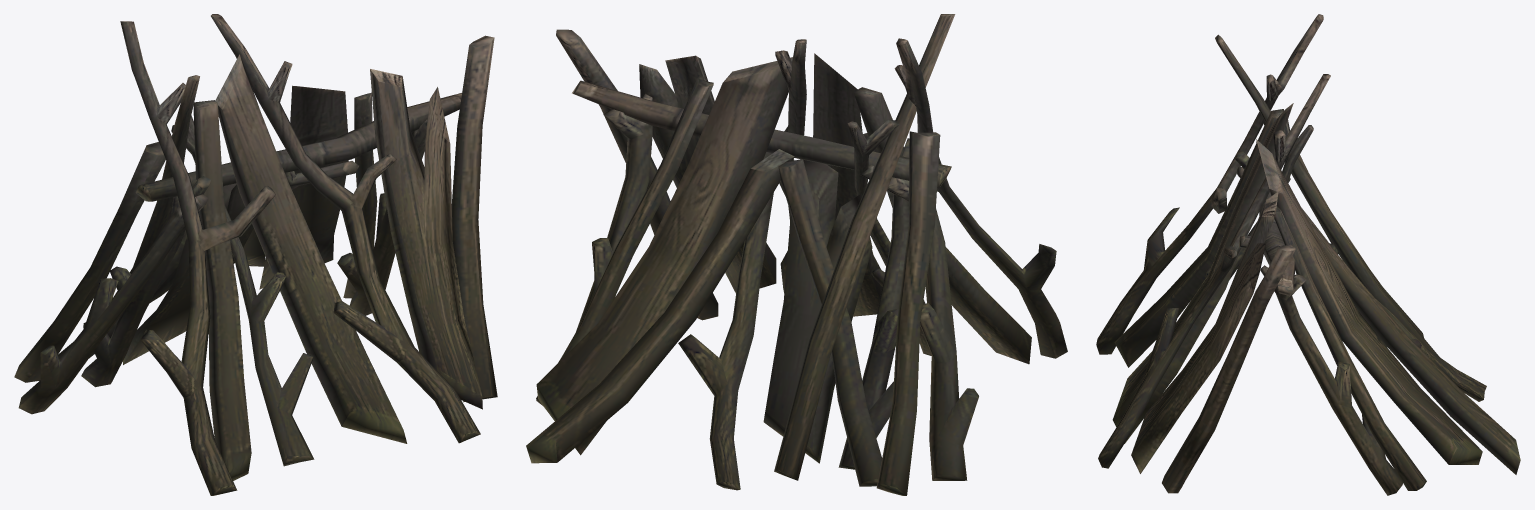
Rendered from leanto_sticks.fbx.
The picture shows the model from 3 angles, left to right: view 1: azimuth 30°, elevation 25°; view 2: azimuth 150°, elevation 25°; view 3: azimuth 270°, elevation 25°; orthographic projection. The views are drawn at different scales.
Visible parts, largest first — view 1: leanto_sticks; view 2: leanto_sticks; view 3: leanto_sticks.
Part boxes in pixels (x1,y1,x2,y2): leanto_sticks: (14, 14, 497, 495); leanto_sticks: (526, 14, 1067, 495); leanto_sticks: (1096, 14, 1520, 495).
Size of the model in its own units: 19045 by 16415 by 17768.
